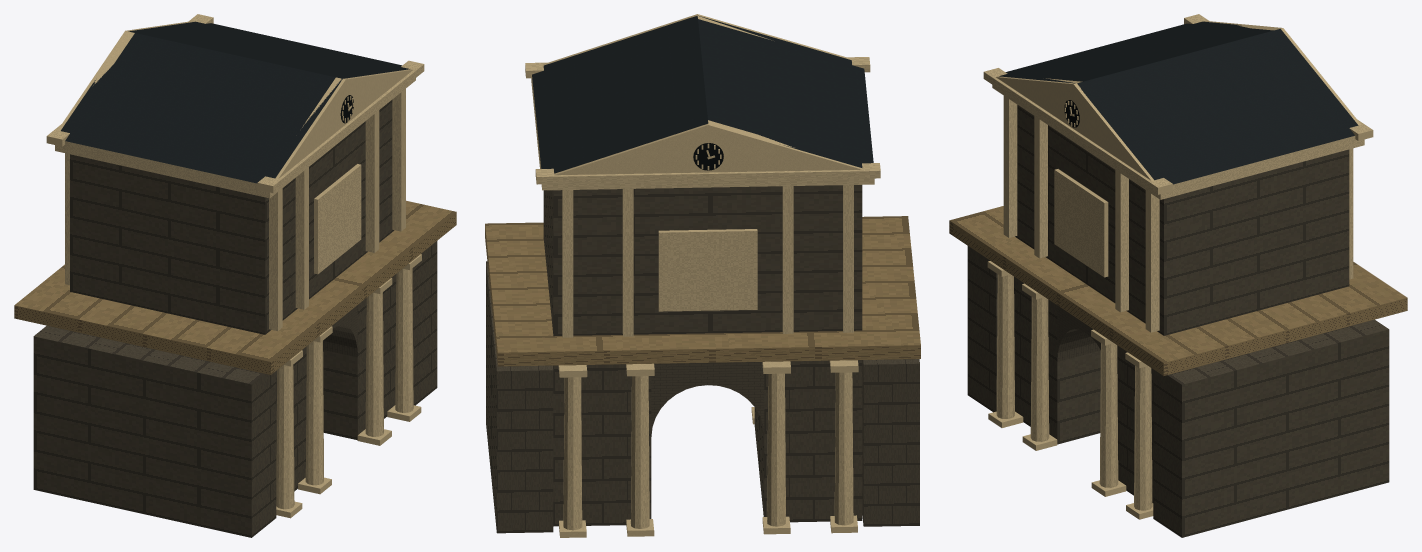
3 views of the same model, side by side, from view 1: azimuth 30°, elevation 25°; view 2: azimuth 150°, elevation 25°; view 3: azimuth 270°, elevation 25° (orthographic). The views are drawn at different scales.
Parts seen in each view (by area): view 1: delftse-poort-0, delftse-poort-2, delftse-poort-3, delftse-poort-1; view 2: delftse-poort-0, delftse-poort-2, delftse-poort-3, delftse-poort-1, delftse-poort-4; view 3: delftse-poort-0, delftse-poort-2, delftse-poort-3, delftse-poort-1.
Boxes of the visible parts, <box> form: delftse-poort-0: <box>33,100,437,537</box>; delftse-poort-2: <box>46,14,424,518</box>; delftse-poort-3: <box>61,21,409,183</box>; delftse-poort-1: <box>14,200,456,374</box>; delftse-poort-0: <box>486,185,919,533</box>; delftse-poort-2: <box>525,14,880,537</box>; delftse-poort-3: <box>532,15,873,173</box>; delftse-poort-1: <box>485,216,920,366</box>; delftse-poort-4: <box>693,143,723,170</box>; delftse-poort-0: <box>967,105,1389,537</box>; delftse-poort-2: <box>983,14,1373,519</box>; delftse-poort-3: <box>999,21,1358,184</box>; delftse-poort-1: <box>949,206,1407,375</box>.
Size of the model in its own units: 22.16 by 19 by 20.62.
5 materials, 5 textured.
